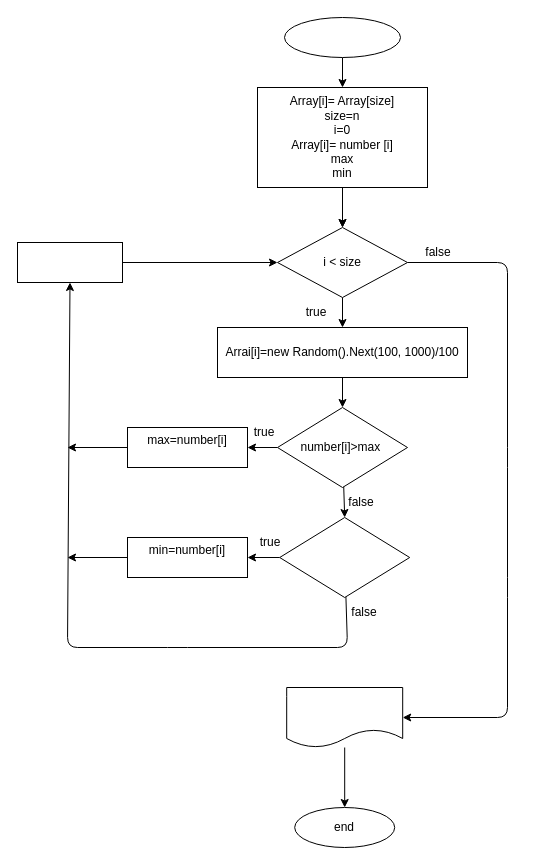
The diagram is 533 pixels wide and 865 high, and some of its shapes have lost their labels. The shapes that lost their labels are listed below. From the top down, each one's box as (x1, y1, x2, y2) in pixels, then its label:
(284, 16, 400, 58): start
(16, 242, 122, 282): i++
(279, 516, 410, 598): number[i]<min
(286, 686, 403, 748): Array[i] max - min
